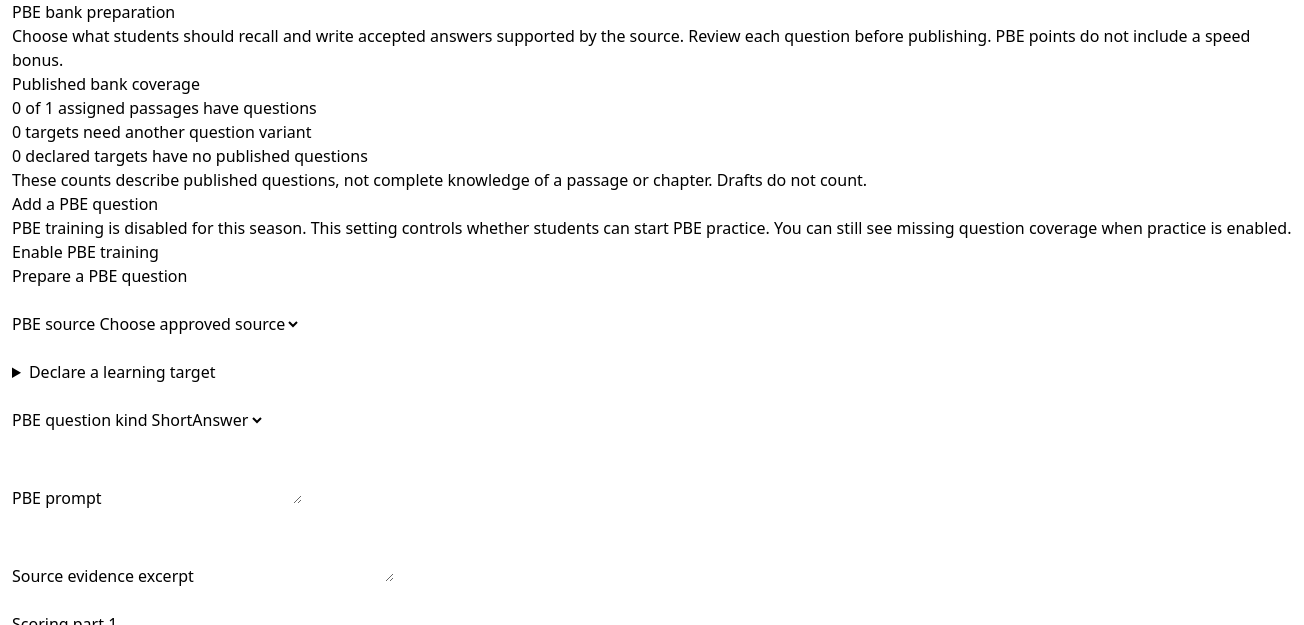
requires a target before preview and shows the actual selected source
This screenshot has width=1304, height=625.
Check: the text "0 of 1 assigned passages have questions" is shown, box [12,97,317,119]
Select "GEN 1:1" in the dropdown labelled "PBE source" at (198, 324), box [95,312,301,336]
(page scrolled)
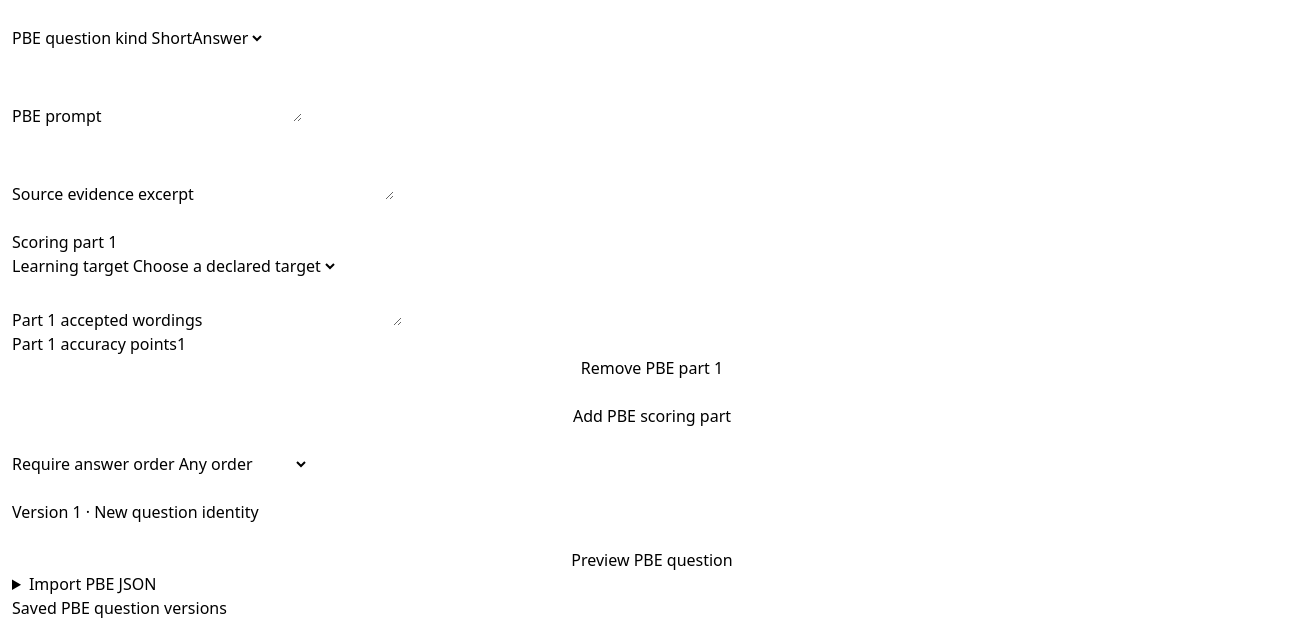
Click the button "Preview PBE question" at (652, 560), box [12,548,1292,572]
(page scrolled)
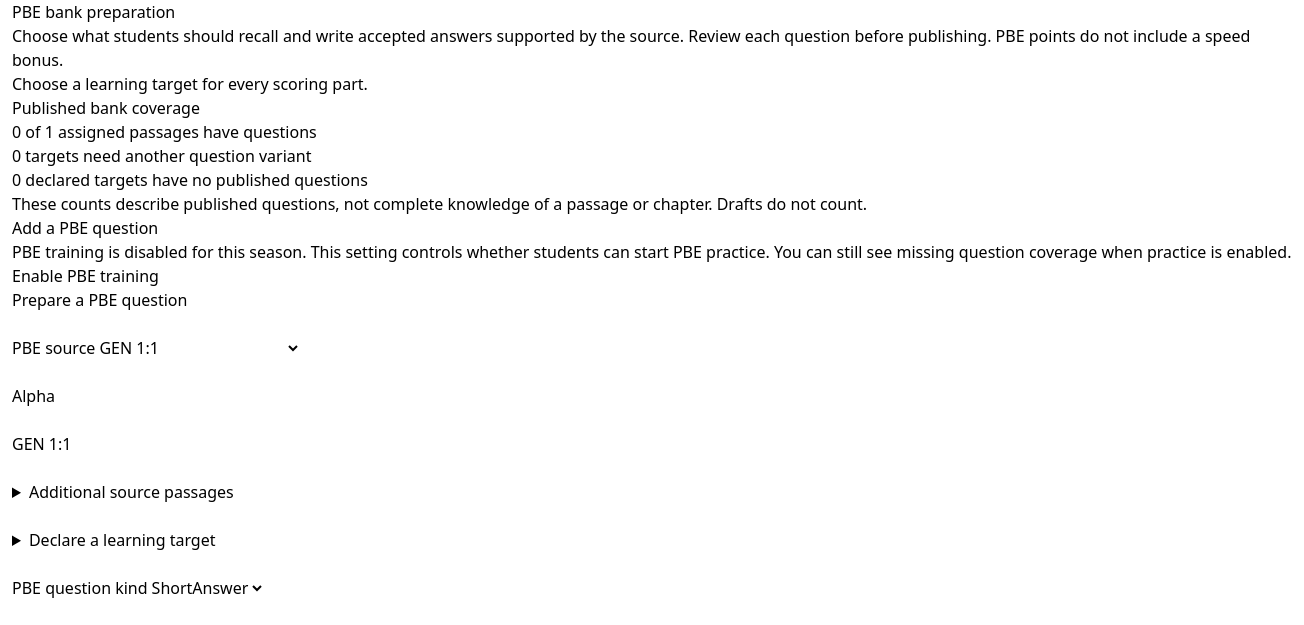
Check: the text "Choose a learning target for every scoring part." is shown, box [12,73,368,95]
